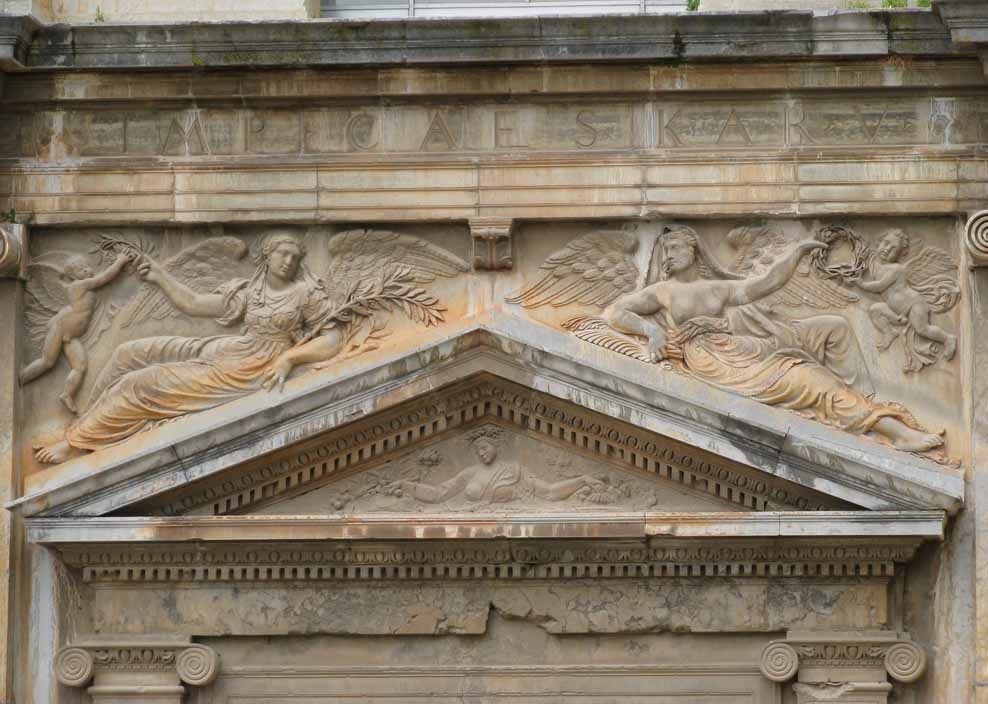fronton: (1, 303, 979, 578)
